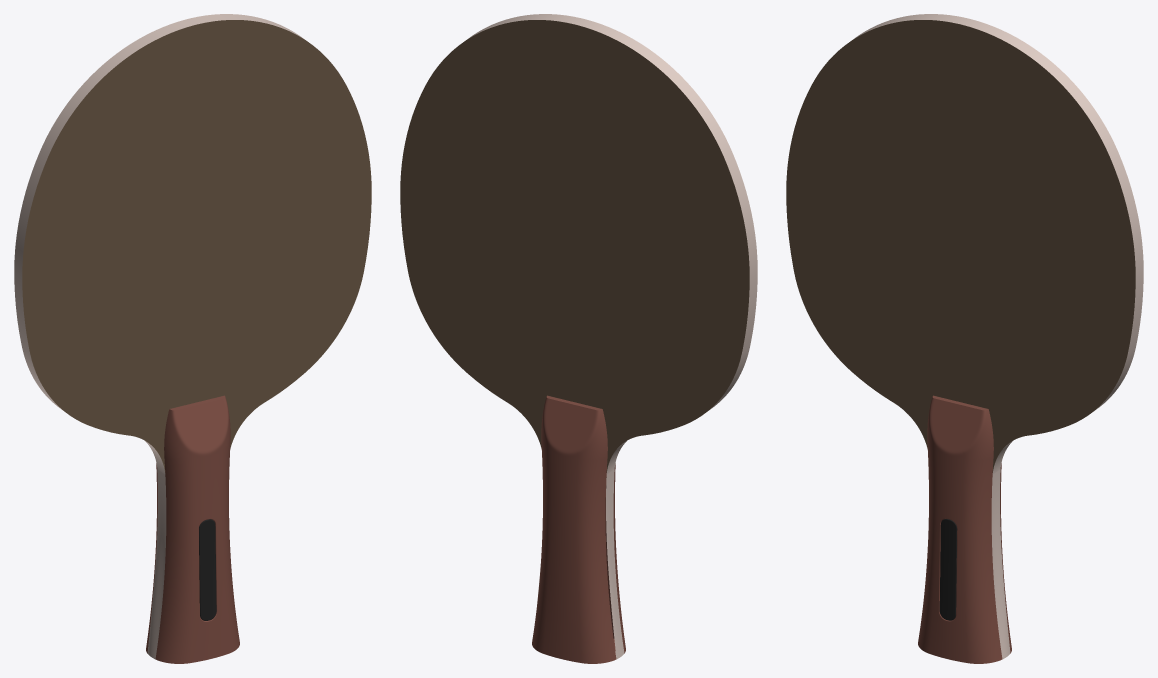
3 views of the same model, side by side, from view 1: azimuth 30°, elevation 25°; view 2: azimuth 150°, elevation 25°; view 3: azimuth 330°, elevation 25° (orthographic).
Visible parts, largest first — view 1: Sheet_251.002, Sheet_74, Sheet_251, Sheet_66; view 2: Sheet_251.002, HALF_HANDLE_-_FLARED, Sheet_251, Sheet_74; view 3: Sheet_251.002, Sheet_74, Sheet_251, Sheet_66.
Part boxes in pixels (left/top/right/bottom): Sheet_251.002: left=22, top=20, right=371, bottom=472; Sheet_74: left=155, top=395, right=239, bottom=663; Sheet_251: left=14, top=14, right=304, bottom=659; Sheet_66: left=199, top=519, right=216, bottom=620; Sheet_251.002: left=400, top=20, right=749, bottom=485; HALF_HANDLE_-_FLARED: left=532, top=395, right=616, bottom=663; Sheet_251: left=467, top=14, right=757, bottom=659; Sheet_74: left=605, top=463, right=625, bottom=653; Sheet_251.002: left=786, top=20, right=1135, bottom=472; Sheet_74: left=918, top=395, right=1002, bottom=663; Sheet_251: left=853, top=14, right=1143, bottom=659; Sheet_66: left=939, top=519, right=957, bottom=620.
Size of the model in its own units: 1.51 by 2.58 by 0.26.
